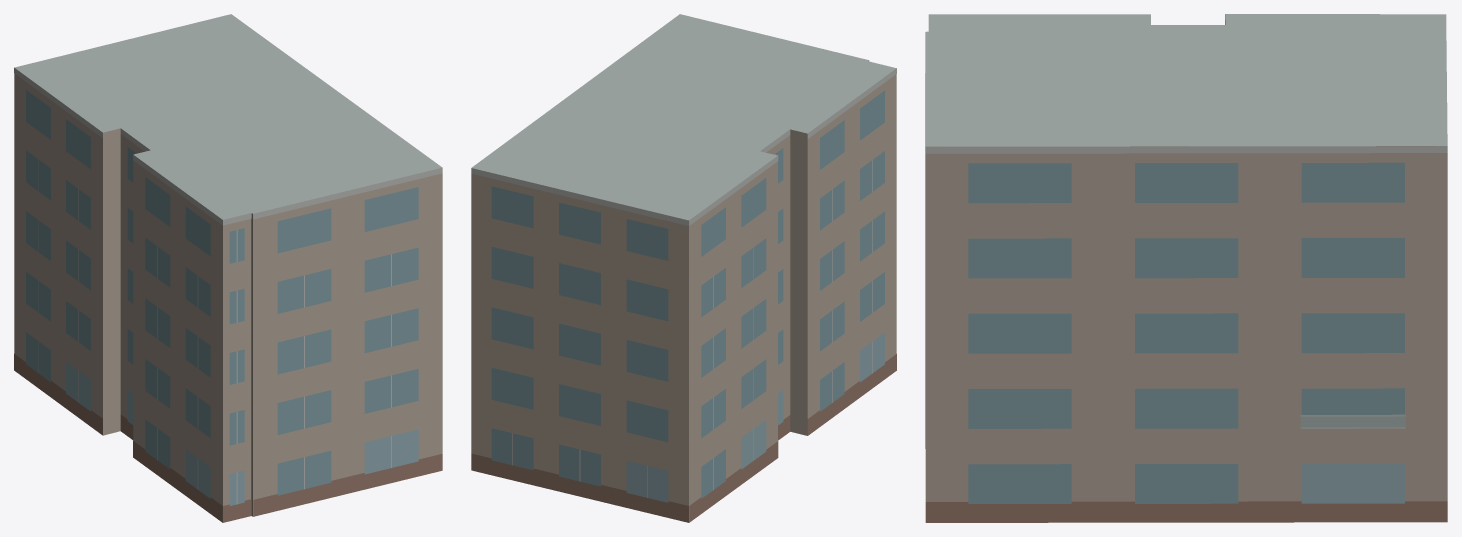
The model's file is survey-upis-32657307.glb.
3 views of the same model, side by side, from view 1: azimuth 30°, elevation 25°; view 2: azimuth 150°, elevation 25°; view 3: azimuth 270°, elevation 25° (orthographic). The views are drawn at different scales.
Visible parts, largest first — view 1: survey-upis-32657307.tmp; view 2: survey-upis-32657307.tmp; view 3: survey-upis-32657307.tmp.
Part boxes in pixels (<box>): survey-upis-32657307.tmp: <box>14,14,442,522</box>; survey-upis-32657307.tmp: <box>471,14,896,522</box>; survey-upis-32657307.tmp: <box>925,14,1447,522</box>.
Bounding box in the file's own units: 9.89 × 13.06 × 16.45.
